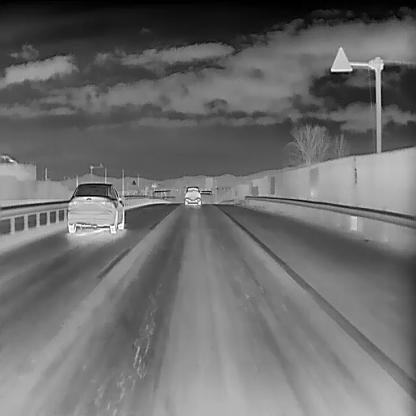car: (67, 182, 124, 233), (183, 185, 201, 205)
